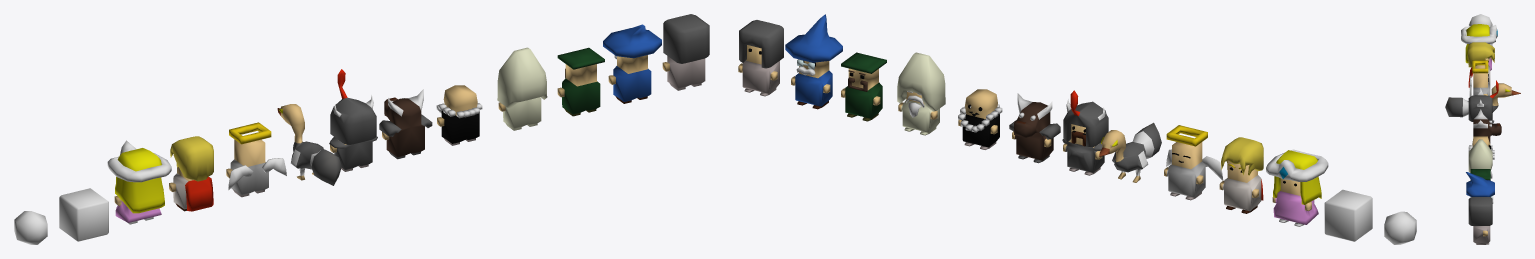
Rendered from Cubby Character.fbx.
3 renders of one model, left to right at view 1: azimuth 30°, elevation 25°; view 2: azimuth 150°, elevation 25°; view 3: azimuth 270°, elevation 25°, orthographic. The views are drawn at different scales.
Parts seen in each view (by area): view 1: Princess, Priest, Knight, Wariior, Magician 1, Brave, Farry, Beast Man, Lancer, SoftEdgeCube, Chicki, Monk (+1 smaller); view 2: Princess, Magician 1, Priest, Wariior, Knight, Farry, Brave, Lancer, Beast Man, SoftEdgeCube, Monk, Chicki (+1 smaller); view 3: Wariior, Chicki, Princess, Brave, Knight, Priest, Farry, Magician 1, Beast Man, Almost a sphere, Monk, Lancer.
Boxes of the visible parts, x1,y1,x2,y2 form: Princess: (107,140,171,224); Priest: (497,47,547,130); Knight: (329,69,377,171); Wariior: (662,14,709,90); Magician 1: (603,24,661,103); Brave: (169,136,213,211); Farry: (226,122,286,197); Beast Man: (379,89,432,159); Lancer: (557,47,604,116); SoftEdgeCube: (59,188,108,241); Chicki: (277,104,341,185); Monk: (436,85,482,145); Princess: (1266,149,1328,226); Magician 1: (785,14,842,109); Priest: (897,52,945,135); Wariior: (738,20,783,96); Knight: (1062,90,1108,175); Farry: (1164,125,1223,200); Brave: (1219,137,1263,213); Lancer: (841,52,886,121); Beast Man: (1009,93,1060,163); SoftEdgeCube: (1324,189,1372,241); Monk: (958,89,1002,149); Chicki: (1099,122,1161,182); Wariior: (1468,197,1492,244); Chicki: (1445,83,1520,117); Princess: (1461,24,1497,70); Brave: (1468,42,1494,87); Knight: (1468,80,1498,136); Priest: (1468,139,1492,178); Farry: (1469,60,1490,96); Magician 1: (1466,172,1494,203); Beast Man: (1473,109,1501,145); Almost a sphere: (1469,14,1492,25); Monk: (1468,136,1494,159); Lancer: (1470,169,1490,180).
Bounding box in the file's own units: 4222 × 524 × 627.
